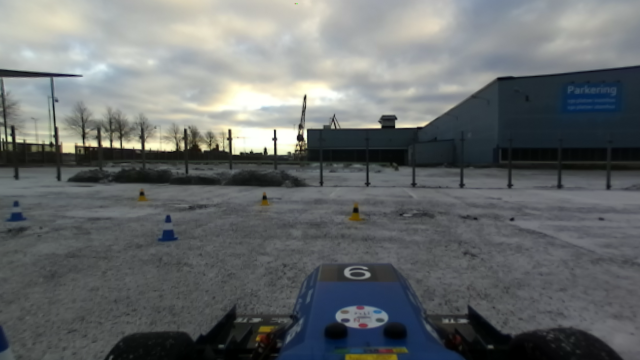blue: (157, 213, 179, 242), (5, 198, 27, 225)
yellow: (348, 200, 364, 223)
